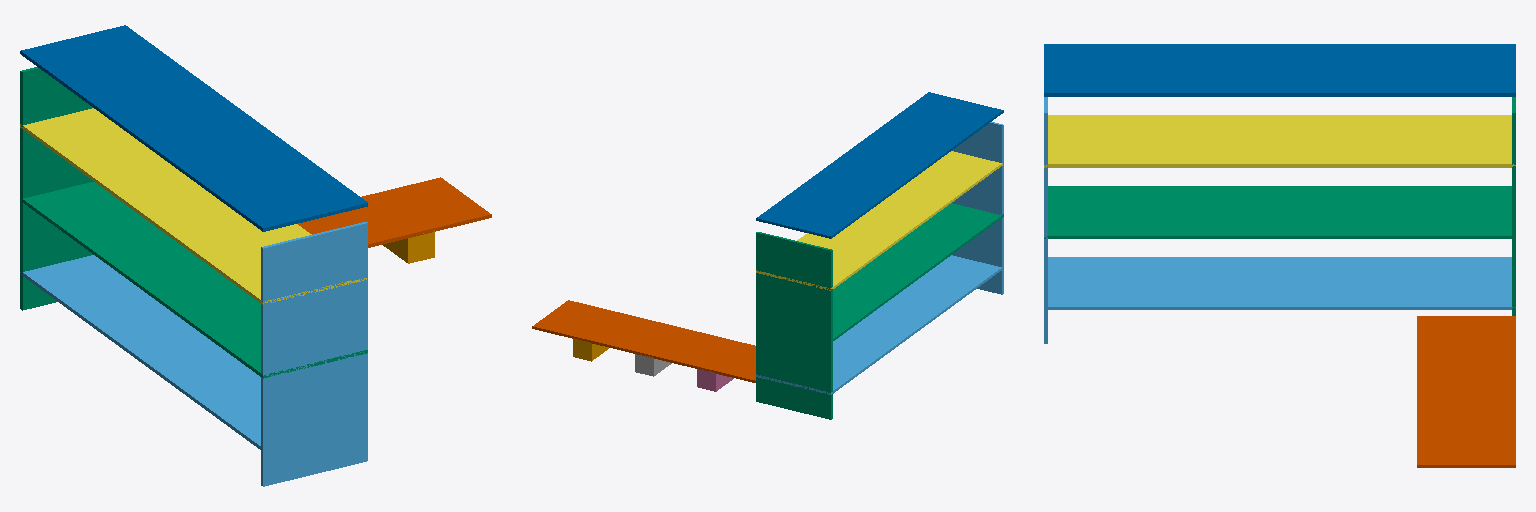
robot.urdf — raised_shelves:
<robot name="raised_shelves">
  <link name="world"/>
  <link name="bookshelf_bottom">
    <visual>
      <geometry>
        <box size="0.3 1.2 0.01"/>
      </geometry>
      <origin xyz="0.075 0.3 0.05" rpy="0 0 0"/>
    </visual>
    <collision>
    <origin xyz="0.075 0.3 0.05" rpy="0 0 0"/>
      <geometry>
        <box size="0.3 1.2 0.01"/>
      </geometry>
    </collision>
  </link>
  <joint name="bookshelf_bottom_joint" type="fixed">
    <parent link="world"/>
    <child link="bookshelf_bottom"/>
    <origin xyz="0.075 0.3 0.05" rpy="0 0 0"/>
  </joint>
  <link name="bookshelf_shelf1">
    <visual>
      <geometry>
        <box size="0.3 1.2 0.01"/>
      </geometry>
      <origin xyz="0.075 0.3 0.15" rpy="0 0 0"/>
    </visual>
    <collision>
    <origin xyz="0.075 0.3 0.15" rpy="0 0 0"/>
      <geometry>
        <box size="0.3 1.2 0.01"/>
      </geometry>
    </collision>
  </link>
  <joint name="bookshelf_shelf1_joint" type="fixed">
    <parent link="world"/>
    <child link="bookshelf_shelf1"/>
    <origin xyz="0.075 0.3 0.15" rpy="0 0 0"/>
  </joint>
  <link name="bookshelf_shelf2">
    <visual>
      <geometry>
        <box size="0.3 1.2 0.01"/>
      </geometry>
      <origin xyz="0.075 0.3 0.25" rpy="0 0 0"/>
    </visual>
    <collision>
    <origin xyz="0.075 0.3 0.25" rpy="0 0 0"/>
      <geometry>
        <box size="0.3 1.2 0.01"/>
      </geometry>
    </collision>
  </link>
  <joint name="bookshelf_shelf2_joint" type="fixed">
    <parent link="world"/>
    <child link="bookshelf_shelf2"/>
    <origin xyz="0.075 0.3 0.25" rpy="0 0 0"/>
  </joint>
  <link name="bookshelf_top">
    <visual>
      <geometry>
        <box size="0.3 1.2 0.01"/>
      </geometry>
      <origin xyz="0.075 0.3 0.35" rpy="0 0 0"/>
    </visual>
    <collision>
    <origin xyz="0.075 0.3 0.35" rpy="0 0 0"/>
      <geometry>
        <box size="0.3 1.2 0.01"/>
      </geometry>
    </collision>
  </link>
  <joint name="bookshelf_top_joint" type="fixed">
    <parent link="world"/>
    <child link="bookshelf_top"/>
    <origin xyz="0.075 0.3 0.35" rpy="0 0 0"/>
  </joint>
  <link name="palette_bottom">
    <visual>
      <geometry>
        <box size="0.9 0.25 0.01"/>
      </geometry>
      <origin xyz="0.375 0.5375 0.0375" rpy="0 0 0"/>
    </visual>
    <collision>
    <origin xyz="0.375 0.5375 0.0375" rpy="0 0 0"/>
      <geometry>
        <box size="0.9 0.25 0.01"/>
      </geometry>
    </collision>
  </link>
  <joint name="palette_bottom_joint" type="fixed">
    <parent link="world"/>
    <child link="palette_bottom"/>
    <origin xyz="0.375 0.5375 0.0375" rpy="0 0 0"/>
  </joint>
  <link name="palette_rail_1">
    <visual>
      <geometry>
        <box size="0.075 0.25 0.075"/>
      </geometry>
      <origin xyz="0.25 0.5375 0.01875" rpy="0 0 0"/>
    </visual>
    <collision>
    <origin xyz="0.25 0.5375 0.01875" rpy="0 0 0"/>
      <geometry>
        <box size="0.075 0.25 0.075"/>
      </geometry>
    </collision>
  </link>
  <joint name="palette_rail_1_joint" type="fixed">
    <parent link="world"/>
    <child link="palette_rail_1"/>
    <origin xyz="0.25 0.5375 0.01875" rpy="0 0 0"/>
  </joint>
  <link name="palette_rail_2">
    <visual>
      <geometry>
        <box size="0.075 0.25 0.075"/>
      </geometry>
      <origin xyz="0.375 0.5375 0.01875" rpy="0 0 0"/>
    </visual>
    <collision>
    <origin xyz="0.375 0.5375 0.01875" rpy="0 0 0"/>
      <geometry>
        <box size="0.075 0.25 0.075"/>
      </geometry>
    </collision>
  </link>
  <joint name="palette_rail_2_joint" type="fixed">
    <parent link="world"/>
    <child link="palette_rail_2"/>
    <origin xyz="0.375 0.5375 0.01875" rpy="0 0 0"/>
  </joint>
  <link name="palette_rail_3">
    <visual>
      <geometry>
        <box size="0.075 0.25 0.075"/>
      </geometry>
      <origin xyz="0.5 0.5375 0.01875" rpy="0 0 0"/>
    </visual>
    <collision>
    <origin xyz="0.5 0.5375 0.01875" rpy="0 0 0"/>
      <geometry>
        <box size="0.075 0.25 0.075"/>
      </geometry>
    </collision>
  </link>
  <joint name="palette_rail_3_joint" type="fixed">
    <parent link="world"/>
    <child link="palette_rail_3"/>
    <origin xyz="0.5 0.5375 0.01875" rpy="0 0 0"/>
  </joint>
  <link name="bookshelf_left_wall">
    <visual>
      <geometry>
        <box size="0.3 0.01 0.65"/>
      </geometry>
      <origin xyz="0.075 0.0025 0.1625" rpy="0 0 0"/>
    </visual>
    <collision>
    <origin xyz="0.075 0.0025 0.1625" rpy="0 0 0"/>
      <geometry>
        <box size="0.3 0.01 0.65"/>
      </geometry>
    </collision>
  </link>
  <joint name="bookshelf_left_wall_joint" type="fixed">
    <parent link="world"/>
    <child link="bookshelf_left_wall"/>
    <origin xyz="0.075 0.0025 0.1625" rpy="0 0 0"/>
  </joint>
  <link name="bookshelf_right_wall">
    <visual>
      <geometry>
        <box size="0.3 0.01 0.65"/>
      </geometry>
      <origin xyz="0.075 0.5975 0.1625" rpy="0 0 0"/>
    </visual>
    <collision>
    <origin xyz="0.075 0.5975 0.1625" rpy="0 0 0"/>
      <geometry>
        <box size="0.3 0.01 0.65"/>
      </geometry>
    </collision>
  </link>
  <joint name="bookshelf_right_wall_joint" type="fixed">
    <parent link="world"/>
    <child link="bookshelf_right_wall"/>
    <origin xyz="0.075 0.5975 0.1625" rpy="0 0 0"/>
  </joint>
</robot>

--- Render facts (derived) ---
The picture shows the robot from 3 angles, left to right: view 1: azimuth 30°, elevation 25°; view 2: azimuth 150°, elevation 25°; view 3: azimuth 270°, elevation 25°; orthographic projection.
Model raised_shelves with 11 links and 10 joints (10 fixed), rooted at world, posed every joint at zero.
Links seen in each view (by area): view 1: bookshelf_top, bookshelf_left_wall, bookshelf_shelf2, bookshelf_shelf1, bookshelf_bottom, bookshelf_right_wall, palette_bottom, palette_rail_3; view 2: bookshelf_top, bookshelf_right_wall, bookshelf_shelf2, palette_bottom, bookshelf_bottom, bookshelf_shelf1, bookshelf_left_wall, palette_rail_1; view 3: bookshelf_top, bookshelf_shelf2, bookshelf_bottom, bookshelf_shelf1, palette_bottom, bookshelf_left_wall, bookshelf_right_wall.
Boxes of the visible links, x1,y1,x2,y2 form: bookshelf_top: (20,25,367,231); bookshelf_left_wall: (261,222,367,486); bookshelf_shelf2: (20,108,366,304); bookshelf_shelf1: (20,182,367,378); bookshelf_bottom: (20,255,367,451); bookshelf_right_wall: (20,67,93,310); palette_bottom: (298,177,491,247); palette_rail_3: (383,230,434,263); bookshelf_top: (756,92,1003,238); bookshelf_right_wall: (756,232,832,419); bookshelf_shelf2: (756,151,1002,290); palette_bottom: (532,300,755,382); bookshelf_bottom: (756,255,1003,394); bookshelf_shelf1: (756,203,1003,342); bookshelf_left_wall: (952,122,1003,294); palette_rail_1: (697,369,733,391); bookshelf_top: (1044,44,1515,96); bookshelf_shelf2: (1044,115,1515,167); bookshelf_bottom: (1044,257,1515,309); bookshelf_shelf1: (1044,186,1515,238); palette_bottom: (1417,316,1515,467); bookshelf_left_wall: (1044,97,1047,343); bookshelf_right_wall: (1512,97,1515,315).
Size in the robot's own frame: 1.2 by 1.2 by 0.705 metres.
Geometry: primitives only (box / cylinder / sphere), no mesh files.